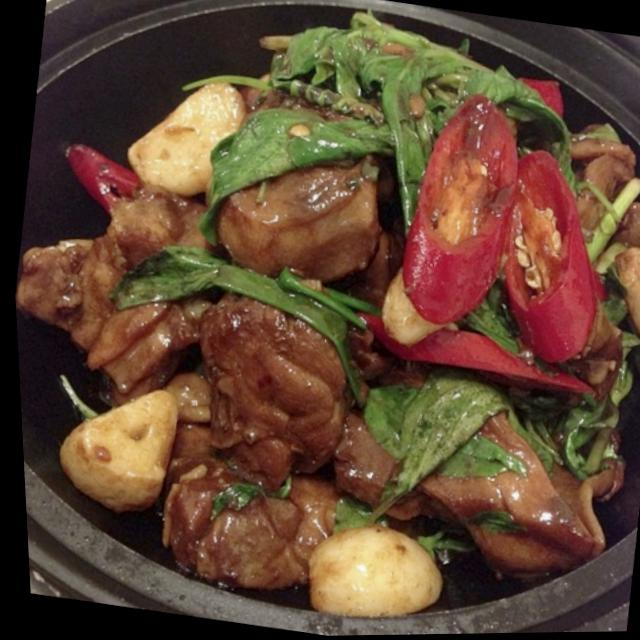鸡肉料理 含炸鸡: (6, 0, 640, 628)
